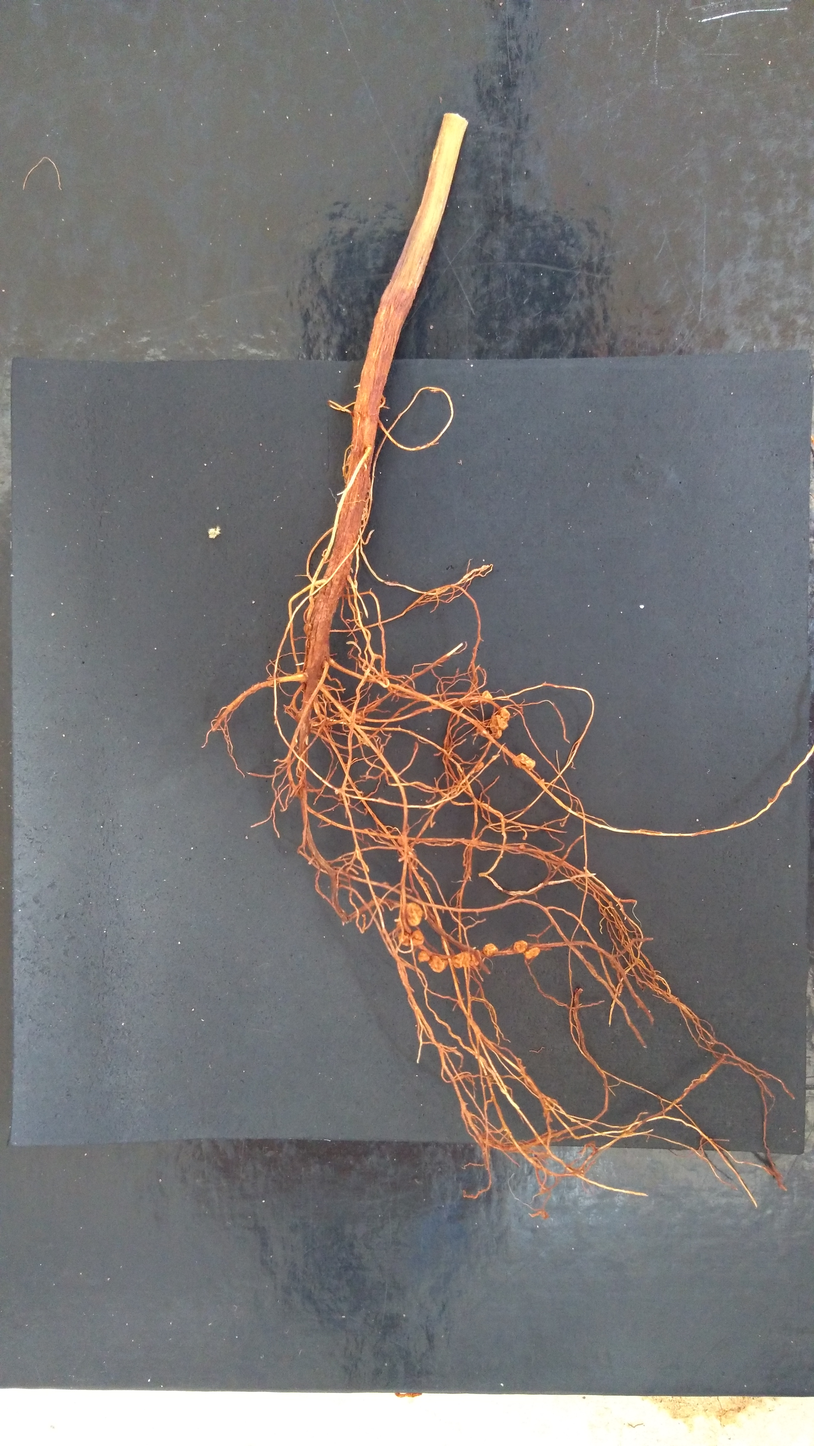nodule: (512, 752, 537, 772), (405, 902, 424, 927), (450, 951, 471, 971), (489, 714, 503, 740), (468, 947, 484, 969), (428, 955, 445, 974), (511, 938, 528, 954), (482, 942, 500, 957), (410, 929, 425, 947), (523, 946, 541, 960), (496, 713, 509, 731), (397, 931, 410, 947), (417, 950, 430, 964), (472, 760, 485, 773), (499, 707, 511, 721), (481, 690, 493, 699)
